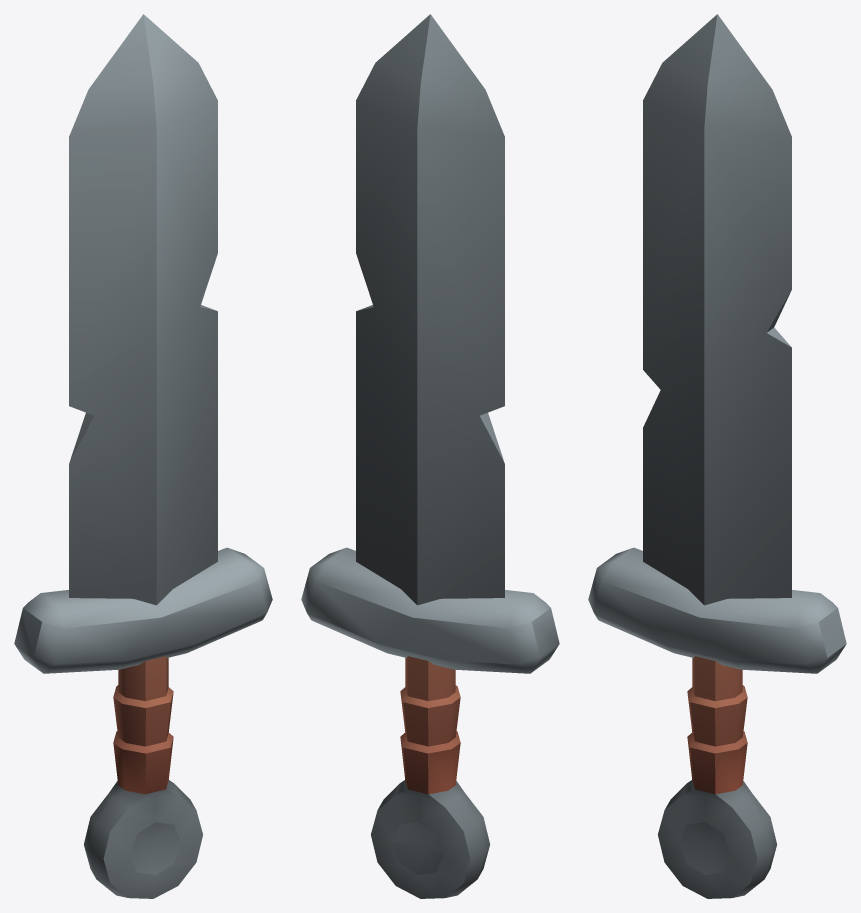
File: kaykit-sword.glb
The picture shows the model from 3 angles, left to right: view 1: azimuth 30°, elevation 25°; view 2: azimuth 150°, elevation 25°; view 3: azimuth 330°, elevation 25°; orthographic projection.
Parts seen in each view (by area): view 1: kaykit-sword; view 2: kaykit-sword; view 3: kaykit-sword.
Boxes of the visible parts, box(x1,y1,x2,y2) form: kaykit-sword: box(14, 14, 272, 898); kaykit-sword: box(301, 14, 559, 898); kaykit-sword: box(588, 14, 846, 898).
Bounding box in the file's own units: 0.3776 × 1.33 × 0.098.
Materials: 1 (1 with a texture image).
